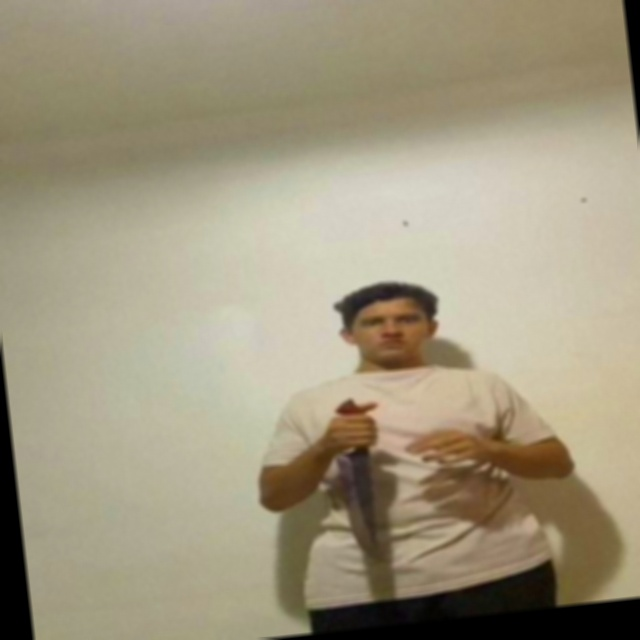Sharp-Object: (335, 450, 382, 561)
